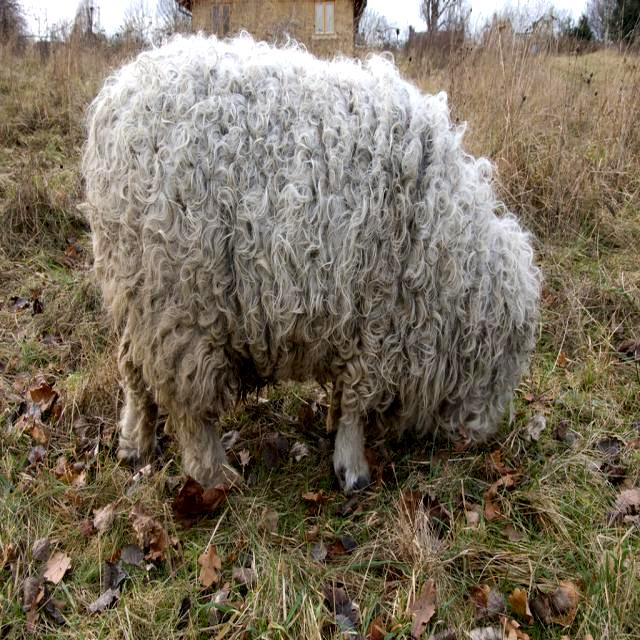sheep: (82, 31, 541, 488)
